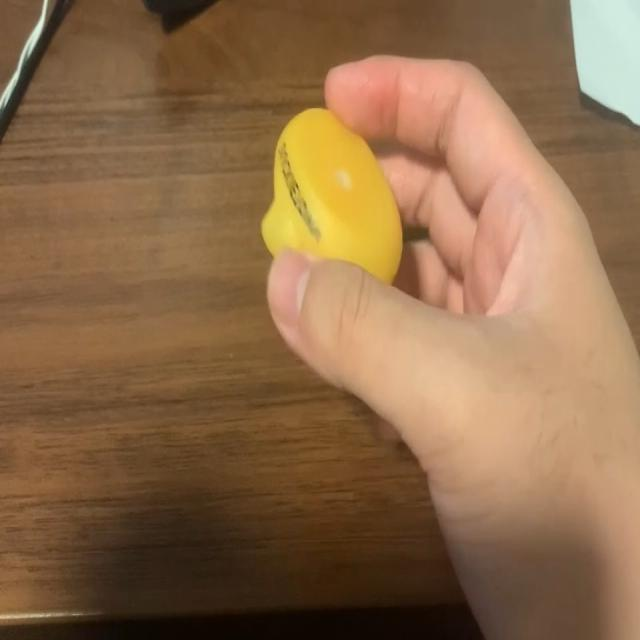rubber-duck: (261, 107, 400, 281)
